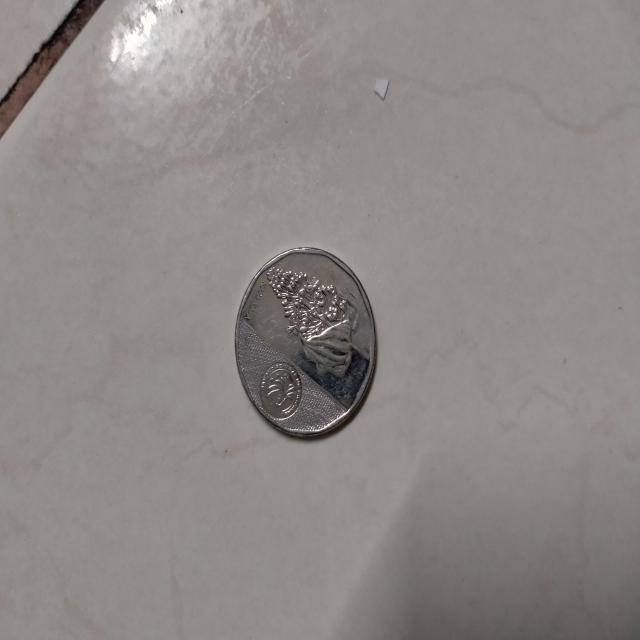10_New_Back: (252, 262, 362, 421)
